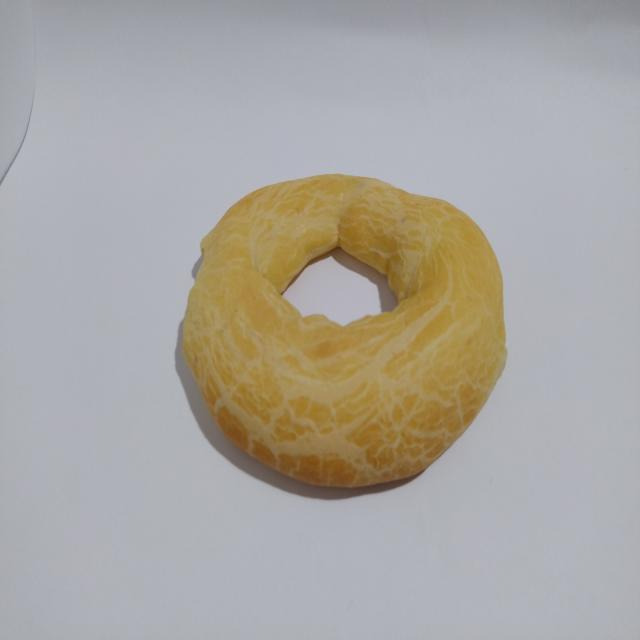Chipa: (167, 164, 516, 506)
